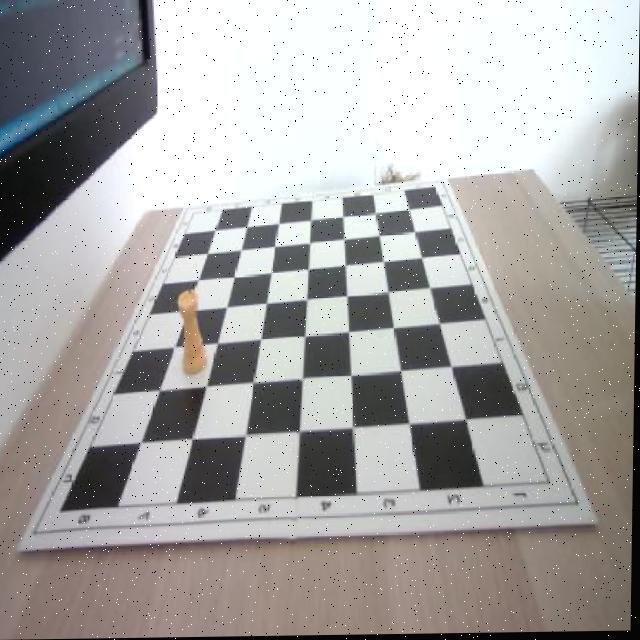white-queen: (177, 287, 209, 376)
